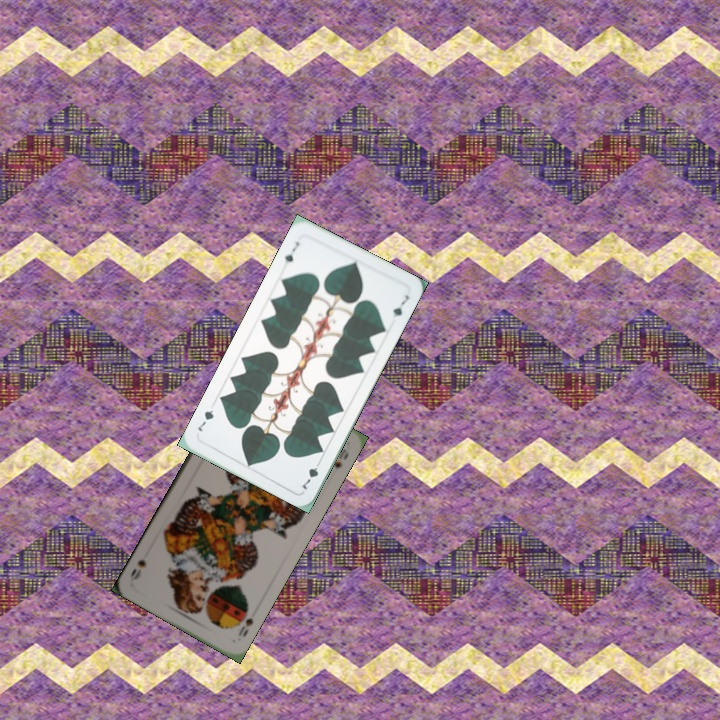G7: (298, 455, 324, 492), (280, 238, 302, 266)
SO: (234, 613, 256, 640)
